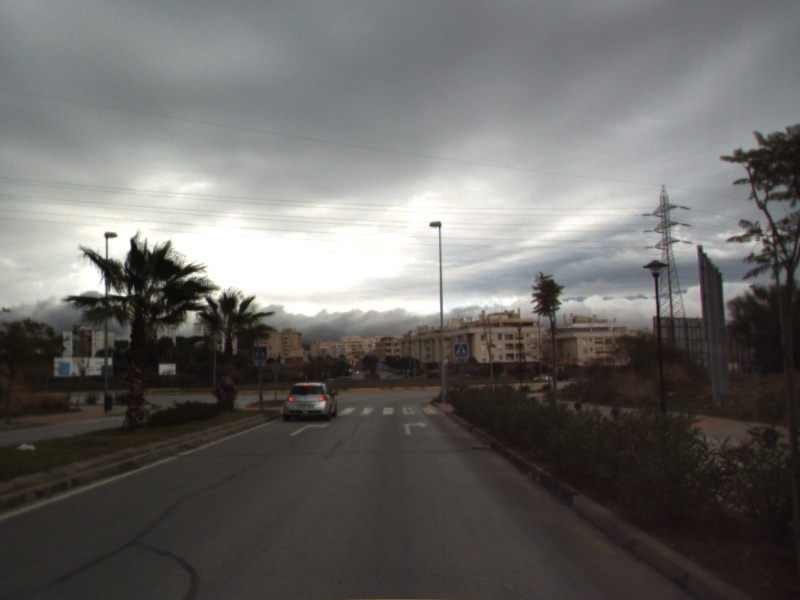RIGHT: (286, 419, 332, 438), (401, 419, 430, 437)
